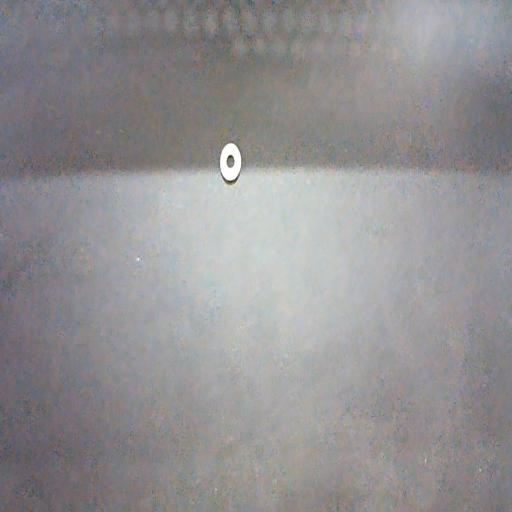washer: (219, 142, 241, 180)
